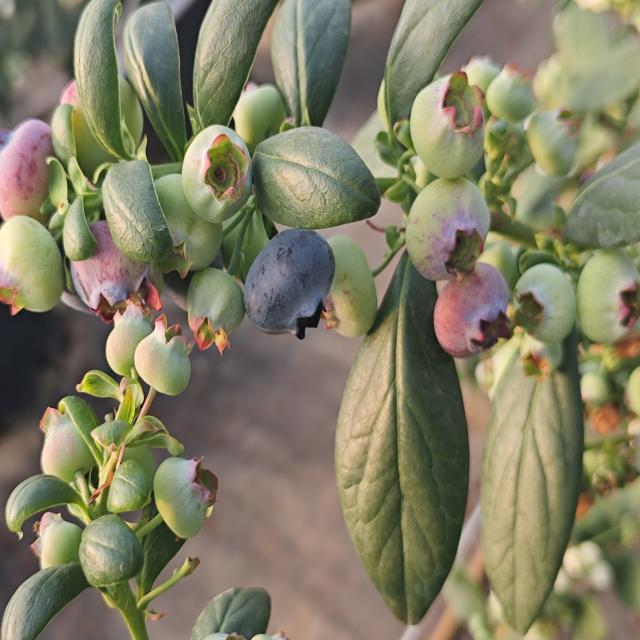ripe: (231, 216, 345, 364)
